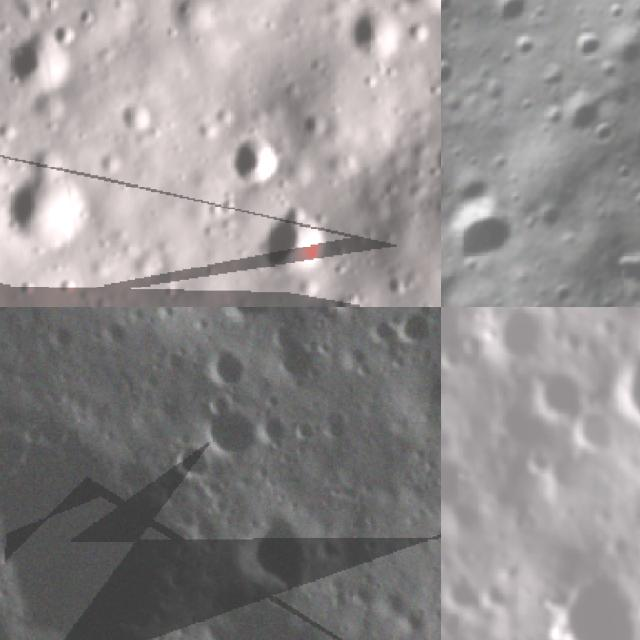crater: (0, 428, 189, 640), (441, 178, 537, 287), (0, 151, 95, 251), (224, 506, 316, 598), (263, 191, 335, 284), (556, 568, 640, 640), (0, 23, 69, 97), (484, 307, 558, 368), (198, 398, 268, 462), (537, 435, 605, 497), (268, 318, 325, 389), (342, 6, 404, 64), (590, 231, 640, 302), (493, 392, 555, 447), (528, 362, 586, 417), (560, 19, 612, 71), (168, 436, 218, 486), (234, 133, 284, 182), (475, 0, 539, 37), (566, 405, 617, 451), (389, 307, 441, 349), (200, 348, 253, 389), (441, 575, 487, 619), (615, 349, 640, 429), (441, 452, 475, 508), (319, 406, 358, 448), (94, 308, 132, 351), (37, 316, 80, 354), (117, 99, 155, 136), (441, 393, 463, 444), (292, 409, 319, 450), (299, 111, 331, 144), (441, 53, 464, 96), (319, 307, 371, 323), (57, 18, 79, 48), (59, 273, 77, 301), (14, 281, 39, 299), (174, 300, 198, 307)
